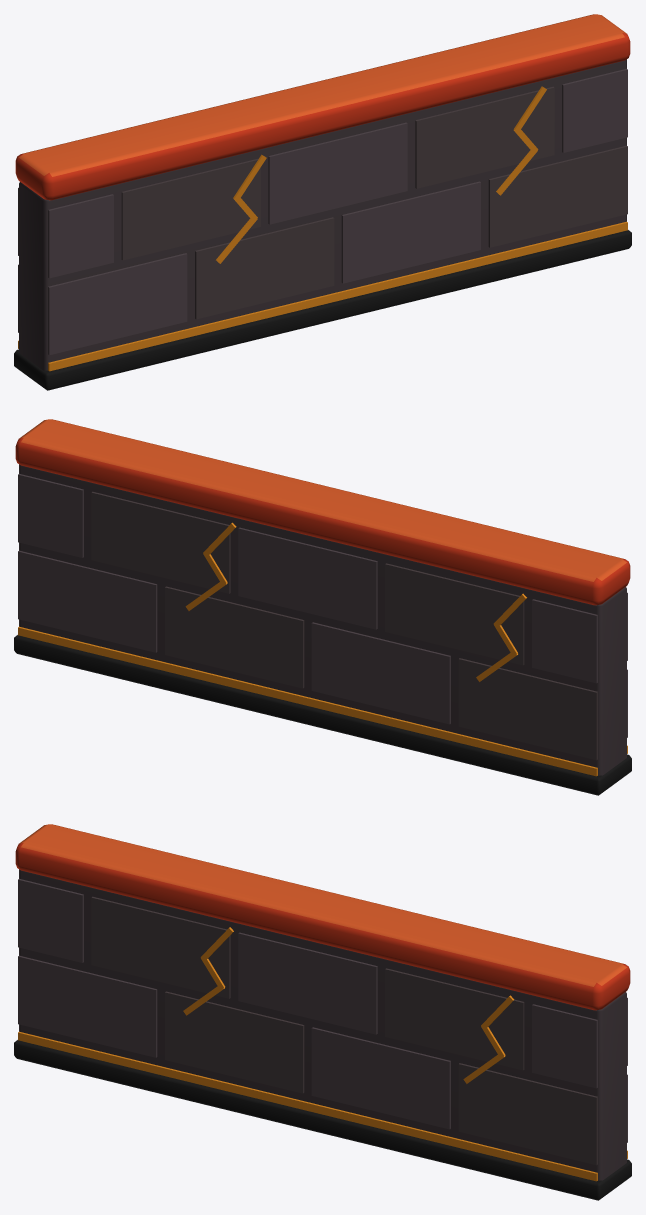
The model's file is candy-plotwall2.glb.
3 views of the same model, one above another, from view 1: azimuth 30°, elevation 25°; view 2: azimuth 150°, elevation 25°; view 3: azimuth 330°, elevation 25° (orthographic).
Visible parts, largest first — view 1: candy-plotwall2; view 2: candy-plotwall2; view 3: candy-plotwall2.
Part boxes in pixels (<box>): candy-plotwall2: <box>14,14,631,390</box>; candy-plotwall2: <box>14,419,631,795</box>; candy-plotwall2: <box>14,824,631,1200</box>.
Size of the model in its own units: 4 by 1.4 by 0.4.
